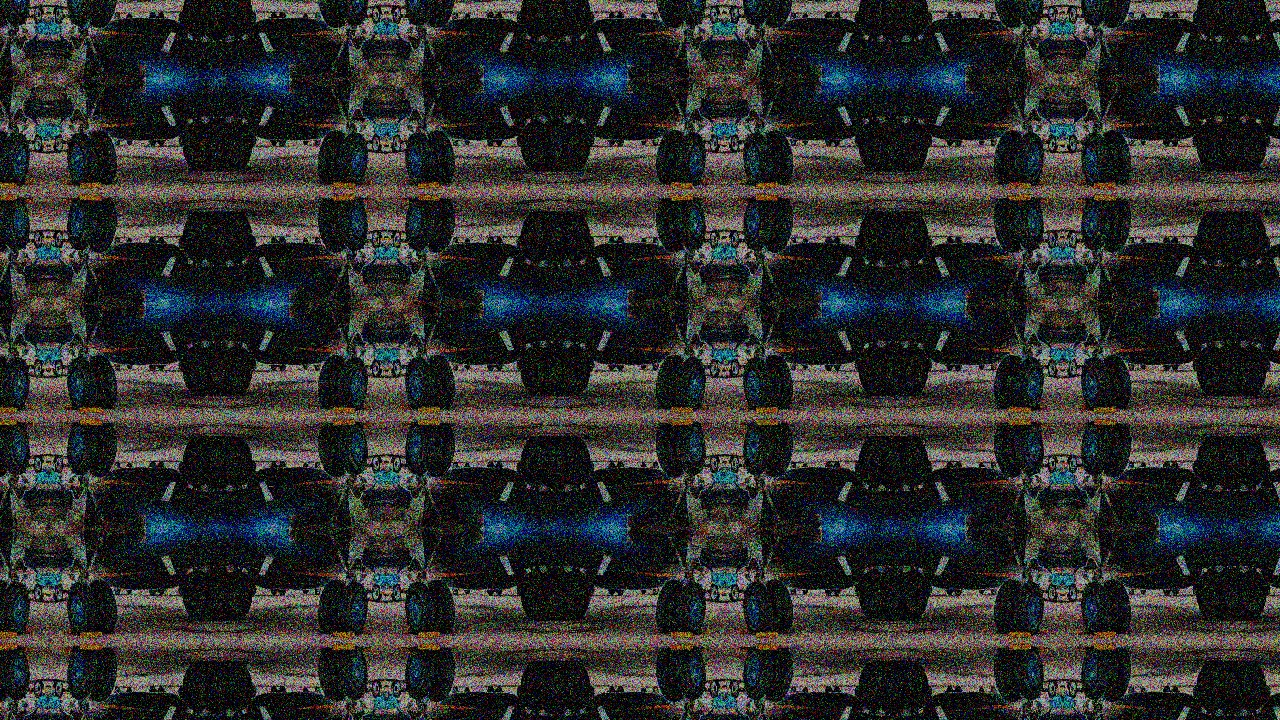chock: (78, 416, 103, 430), (669, 416, 694, 430), (1094, 416, 1119, 430), (78, 628, 103, 642), (669, 628, 694, 642), (1094, 628, 1119, 642), (331, 416, 355, 430), (417, 416, 441, 430), (756, 416, 780, 430), (1008, 416, 1032, 430), (331, 628, 355, 642), (417, 628, 441, 642), (756, 628, 780, 642), (1008, 628, 1032, 642), (78, 178, 103, 191), (669, 178, 694, 191), (1094, 178, 1119, 191), (78, 191, 103, 204), (669, 191, 694, 204), (1094, 191, 1119, 204), (78, 403, 103, 416), (669, 403, 694, 416), (1094, 403, 1119, 416), (78, 642, 103, 655), (669, 642, 694, 655), (1094, 642, 1119, 655), (331, 178, 355, 191), (417, 178, 441, 191), (756, 178, 780, 191), (1008, 178, 1032, 191), (331, 191, 355, 204), (417, 191, 441, 204), (756, 191, 780, 204), (1008, 191, 1032, 204), (331, 403, 355, 416), (417, 403, 441, 416), (756, 403, 780, 416), (1008, 403, 1032, 416), (331, 642, 355, 655), (417, 642, 441, 655), (756, 642, 780, 655), (1008, 642, 1032, 655), (352, 400, 373, 413), (399, 400, 420, 413), (352, 645, 373, 658), (399, 645, 420, 658), (14, 400, 34, 413), (61, 400, 81, 413), (691, 400, 711, 413), (738, 400, 758, 413), (1030, 400, 1050, 413), (1077, 400, 1097, 413), (14, 645, 34, 658), (61, 645, 81, 658), (691, 645, 711, 658), (738, 645, 758, 658), (1030, 645, 1050, 658), (1077, 645, 1097, 658), (352, 175, 373, 187), (399, 175, 420, 187), (352, 195, 373, 207), (399, 195, 420, 207), (352, 420, 373, 432), (399, 420, 420, 432), (352, 626, 373, 638), (399, 626, 420, 638), (14, 175, 34, 187), (61, 175, 81, 187), (691, 175, 711, 187), (738, 175, 758, 187), (1030, 175, 1050, 187), (1077, 175, 1097, 187), (14, 195, 34, 207), (61, 195, 81, 207), (691, 195, 711, 207), (738, 195, 758, 207), (1030, 195, 1050, 207), (1077, 195, 1097, 207), (14, 420, 34, 432), (61, 420, 81, 432), (691, 420, 711, 432), (738, 420, 758, 432), (1030, 420, 1050, 432), (1077, 420, 1097, 432), (14, 626, 34, 638), (61, 626, 81, 638), (691, 626, 711, 638), (738, 626, 758, 638), (1030, 626, 1050, 638), (1077, 626, 1097, 638), (0, 416, 16, 430), (0, 628, 16, 642), (0, 178, 16, 191), (0, 191, 16, 204), (0, 403, 16, 416), (0, 642, 16, 655)
wheel: (336, 353, 370, 414), (402, 353, 436, 414), (741, 353, 775, 414), (1013, 353, 1047, 414), (336, 644, 370, 705), (402, 644, 436, 705), (741, 644, 775, 705), (1013, 644, 1047, 705), (336, 128, 370, 188), (402, 128, 436, 188), (741, 128, 775, 188), (1013, 128, 1047, 188), (336, 194, 370, 254), (402, 194, 436, 254), (741, 194, 775, 254), (1013, 194, 1047, 254), (336, 419, 370, 479), (402, 419, 436, 479), (741, 419, 775, 479), (1013, 419, 1047, 479), (336, 579, 370, 639), (402, 579, 436, 639), (741, 579, 775, 639), (1013, 579, 1047, 639), (64, 353, 97, 414), (675, 353, 708, 414), (1080, 353, 1113, 414), (64, 644, 97, 705), (675, 644, 708, 705), (1080, 644, 1113, 705), (64, 128, 97, 188), (675, 128, 708, 188), (1080, 128, 1113, 188), (64, 194, 97, 254), (675, 194, 708, 254), (1080, 194, 1113, 254), (64, 419, 97, 479), (675, 419, 708, 479), (1080, 419, 1113, 479), (64, 579, 97, 639), (675, 579, 708, 639), (1080, 579, 1113, 639), (0, 353, 31, 414), (0, 644, 31, 705), (0, 128, 31, 188), (0, 194, 31, 254), (0, 419, 31, 479), (0, 579, 31, 639), (87, 127, 118, 186), (315, 127, 346, 186), (426, 127, 457, 186), (654, 127, 685, 186), (1103, 127, 1134, 186), (87, 196, 118, 255), (315, 196, 346, 255), (426, 196, 457, 255), (654, 196, 685, 255), (1103, 196, 1134, 255), (87, 352, 118, 411), (315, 352, 346, 411), (426, 352, 457, 411), (654, 352, 685, 411), (1103, 352, 1134, 411), (87, 421, 118, 480), (315, 421, 346, 480), (426, 421, 457, 480), (654, 421, 685, 480), (1103, 421, 1134, 480), (87, 578, 118, 637), (315, 578, 346, 637), (426, 578, 457, 637), (654, 578, 685, 637), (1103, 578, 1134, 637), (87, 647, 118, 706), (315, 647, 346, 706), (426, 647, 457, 706), (654, 647, 685, 706), (1103, 647, 1134, 706), (765, 127, 795, 186), (993, 127, 1023, 186), (765, 196, 795, 255), (993, 196, 1023, 255), (765, 352, 795, 411), (993, 352, 1023, 411), (765, 421, 795, 480), (993, 421, 1023, 480), (765, 578, 795, 637), (993, 578, 1023, 637), (765, 647, 795, 706), (993, 647, 1023, 706), (178, 120, 210, 173), (223, 120, 255, 173), (517, 120, 549, 173), (562, 120, 594, 173), (1194, 120, 1226, 173), (1239, 120, 1271, 173), (178, 209, 210, 262), (223, 209, 255, 262), (517, 209, 549, 262), (562, 209, 594, 262), (1194, 209, 1226, 262), (1239, 209, 1271, 262), (178, 345, 210, 398), (223, 345, 255, 398), (517, 345, 549, 398), (562, 345, 594, 398), (1194, 345, 1226, 398), (1239, 345, 1271, 398), (178, 435, 210, 488), (223, 435, 255, 488), (517, 435, 549, 488), (562, 435, 594, 488), (1194, 435, 1226, 488), (1239, 435, 1271, 488), (178, 570, 210, 623), (223, 570, 255, 623), (517, 570, 549, 623), (562, 570, 594, 623), (1194, 570, 1226, 623), (1239, 570, 1271, 623), (178, 660, 210, 713), (223, 660, 255, 713), (517, 660, 549, 713), (562, 660, 594, 713), (1194, 660, 1226, 713), (1239, 660, 1271, 713), (856, 120, 887, 173), (901, 120, 932, 173), (856, 209, 887, 262), (901, 209, 932, 262), (856, 345, 887, 398), (901, 345, 932, 398), (856, 435, 887, 488), (901, 435, 932, 488), (856, 570, 887, 623), (901, 570, 932, 623), (856, 660, 887, 713), (901, 660, 932, 713), (178, 0, 210, 37), (223, 0, 255, 37), (517, 0, 549, 37), (562, 0, 594, 37), (1194, 0, 1226, 37), (1239, 0, 1271, 37), (856, 0, 887, 37), (901, 0, 932, 37), (336, 0, 370, 29), (402, 0, 436, 29), (741, 0, 775, 29), (1013, 0, 1047, 29), (64, 0, 97, 29), (675, 0, 708, 29), (1080, 0, 1113, 29), (87, 0, 118, 30), (315, 0, 346, 30), (426, 0, 457, 30), (654, 0, 685, 30), (1103, 0, 1134, 30), (765, 0, 795, 30), (993, 0, 1023, 30), (0, 0, 31, 29), (204, 118, 217, 172), (555, 118, 568, 172), (1220, 118, 1233, 172), (204, 210, 217, 264), (555, 210, 568, 264), (1220, 210, 1233, 264), (204, 344, 217, 397), (555, 344, 568, 397), (1220, 344, 1233, 397), (204, 436, 217, 489), (555, 436, 568, 489), (1220, 436, 1233, 489), (204, 569, 217, 622), (555, 569, 568, 622), (1220, 569, 1233, 622), (204, 661, 217, 714), (555, 661, 568, 714), (1220, 661, 1233, 714), (217, 118, 229, 172), (543, 118, 555, 172), (882, 118, 894, 172), (894, 118, 906, 172), (1233, 118, 1245, 172), (217, 210, 229, 264), (543, 210, 555, 264), (882, 210, 894, 264), (894, 210, 906, 264), (1233, 210, 1245, 264), (217, 344, 229, 397), (543, 344, 555, 397), (882, 344, 894, 397), (894, 344, 906, 397), (1233, 344, 1245, 397), (217, 436, 229, 489), (543, 436, 555, 489), (882, 436, 894, 489), (894, 436, 906, 489), (1233, 436, 1245, 489), (217, 569, 229, 622), (543, 569, 555, 622), (882, 569, 894, 622), (894, 569, 906, 622), (1233, 569, 1245, 622), (217, 661, 229, 714), (543, 661, 555, 714), (882, 661, 894, 714), (894, 661, 906, 714), (1233, 661, 1245, 714), (204, 0, 217, 38), (555, 0, 568, 38), (1220, 0, 1233, 38), (217, 0, 229, 38), (543, 0, 555, 38), (882, 0, 894, 38), (894, 0, 906, 38), (1233, 0, 1245, 38), (0, 127, 7, 186), (0, 196, 7, 255), (0, 352, 7, 411), (0, 421, 7, 480), (0, 578, 7, 637), (0, 647, 7, 706), (51, 3, 63, 23), (709, 3, 721, 23), (1067, 3, 1079, 23), (51, 133, 63, 153), (709, 133, 721, 153), (1067, 133, 1079, 153), (51, 229, 63, 249), (709, 229, 721, 249), (1067, 229, 1079, 249), (51, 359, 63, 379), (709, 359, 721, 379), (1067, 359, 1079, 379), (51, 454, 63, 474), (709, 454, 721, 474), (1067, 454, 1079, 474), (51, 584, 63, 604), (709, 584, 721, 604), (1067, 584, 1079, 604), (51, 679, 63, 699), (709, 679, 721, 699), (1067, 679, 1079, 699), (32, 3, 43, 23), (371, 3, 382, 23), (390, 3, 401, 23), (729, 3, 740, 23), (1048, 3, 1059, 23), (32, 133, 43, 153), (371, 133, 382, 153), (390, 133, 401, 153), (729, 133, 740, 153), (1048, 133, 1059, 153), (32, 229, 43, 249), (371, 229, 382, 249), (390, 229, 401, 249), (729, 229, 740, 249), (1048, 229, 1059, 249), (32, 359, 43, 379), (371, 359, 382, 379), (390, 359, 401, 379), (729, 359, 740, 379), (1048, 359, 1059, 379), (32, 454, 43, 474), (371, 454, 382, 474), (390, 454, 401, 474), (729, 454, 740, 474), (1048, 454, 1059, 474), (32, 584, 43, 604), (371, 584, 382, 604), (390, 584, 401, 604), (729, 584, 740, 604), (1048, 584, 1059, 604), (32, 679, 43, 699), (371, 679, 382, 699), (390, 679, 401, 699), (729, 679, 740, 699), (1048, 679, 1059, 699), (0, 0, 7, 30), (250, 10, 257, 23), (515, 10, 522, 23), (854, 10, 861, 23), (927, 10, 934, 23), (1266, 10, 1273, 23), (250, 134, 257, 147), (515, 134, 522, 147), (854, 134, 861, 147), (927, 134, 934, 147), (1266, 134, 1273, 147), (250, 235, 257, 248), (515, 235, 522, 248), (854, 235, 861, 248), (927, 235, 934, 248), (1266, 235, 1273, 248), (250, 359, 257, 372), (515, 359, 522, 372), (854, 359, 861, 372), (927, 359, 934, 372), (1266, 359, 1273, 372), (250, 461, 257, 474), (515, 461, 522, 474), (854, 461, 861, 474), (927, 461, 934, 474), (1266, 461, 1273, 474), (250, 584, 257, 597), (515, 584, 522, 597), (854, 584, 861, 597), (927, 584, 934, 597), (1266, 584, 1273, 597), (250, 686, 257, 699), (515, 686, 522, 699), (854, 686, 861, 699), (927, 686, 934, 699), (1266, 686, 1273, 699), (177, 10, 183, 23), (589, 10, 595, 23), (1193, 10, 1199, 23), (177, 134, 183, 147), (589, 134, 595, 147), (1193, 134, 1199, 147), (177, 235, 183, 248), (589, 235, 595, 248), (1193, 235, 1199, 248), (177, 359, 183, 372), (589, 359, 595, 372), (1193, 359, 1199, 372), (177, 461, 183, 474), (589, 461, 595, 474), (1193, 461, 1199, 474), (177, 584, 183, 597), (589, 584, 595, 597), (1193, 584, 1199, 597), (177, 686, 183, 699), (589, 686, 595, 699), (1193, 686, 1199, 699), (156, 11, 164, 18), (608, 11, 616, 18), (1172, 11, 1180, 18), (156, 364, 164, 371), (608, 364, 616, 371), (1172, 364, 1180, 371), (156, 687, 164, 694), (608, 687, 616, 694), (1172, 687, 1180, 694), (148, 11, 155, 18), (278, 11, 285, 18), (270, 11, 277, 18), (487, 11, 494, 18), (495, 11, 502, 18), (617, 11, 624, 18), (825, 11, 832, 18), (834, 11, 841, 18), (790, 12, 797, 19), (956, 11, 963, 18), (947, 11, 954, 18), (991, 12, 998, 19), (1164, 11, 1171, 18), (148, 139, 155, 146), (278, 139, 285, 146), (487, 139, 494, 146), (617, 139, 624, 146), (825, 139, 832, 146), (790, 138, 797, 145), (956, 139, 963, 146), (991, 138, 998, 145), (1164, 139, 1171, 146), (148, 236, 155, 243), (278, 236, 285, 243), (487, 236, 494, 243), (617, 236, 624, 243), (825, 236, 832, 243), (790, 237, 797, 244), (956, 236, 963, 243), (991, 237, 998, 244), (1164, 236, 1171, 243), (148, 364, 155, 371), (278, 364, 285, 371), (270, 364, 277, 371), (487, 364, 494, 371), (495, 364, 502, 371), (617, 364, 624, 371), (825, 364, 832, 371), (834, 364, 841, 371), (790, 363, 797, 370), (956, 364, 963, 371), (947, 364, 954, 371), (991, 363, 998, 370), (1164, 364, 1171, 371), (148, 461, 155, 468), (278, 461, 285, 468), (487, 461, 494, 468), (617, 461, 624, 468), (825, 461, 832, 468), (790, 462, 797, 469), (956, 461, 963, 468), (991, 462, 998, 469), (1164, 461, 1171, 468), (148, 590, 155, 597), (278, 590, 285, 597), (487, 590, 494, 597), (617, 590, 624, 597), (825, 590, 832, 597), (790, 589, 797, 596), (956, 590, 963, 597), (991, 589, 998, 596), (1164, 590, 1171, 597), (148, 687, 155, 694), (278, 687, 285, 694), (270, 687, 277, 694), (487, 687, 494, 694), (495, 687, 502, 694), (617, 687, 624, 694), (825, 687, 832, 694), (834, 687, 841, 694), (790, 688, 797, 695), (956, 687, 963, 694), (947, 687, 954, 694), (991, 688, 998, 695), (1164, 687, 1171, 694), (156, 139, 164, 145), (608, 139, 616, 145), (1172, 139, 1180, 145), (156, 237, 164, 243), (608, 237, 616, 243), (1172, 237, 1180, 243), (156, 462, 164, 468), (608, 462, 616, 468), (1172, 462, 1180, 468), (156, 590, 164, 596), (608, 590, 616, 596), (1172, 590, 1180, 596), (38, 5, 43, 14), (377, 5, 382, 14), (390, 5, 395, 14), (729, 5, 734, 14), (1054, 5, 1059, 14), (38, 143, 43, 152), (377, 143, 382, 152), (390, 143, 395, 152), (729, 143, 734, 152), (1054, 143, 1059, 152), (38, 230, 43, 239), (377, 230, 382, 239), (390, 230, 395, 239), (729, 230, 734, 239), (1054, 230, 1059, 239), (38, 368, 43, 377), (377, 368, 382, 377), (390, 368, 395, 377), (729, 368, 734, 377), (1054, 368, 1059, 377), (38, 681, 43, 690), (377, 681, 382, 690), (390, 681, 395, 690), (729, 681, 734, 690), (1054, 681, 1059, 690), (113, 12, 119, 19), (314, 12, 320, 19), (452, 12, 458, 19), (653, 12, 659, 19), (1129, 12, 1135, 19), (113, 138, 119, 145), (270, 139, 277, 145), (314, 138, 320, 145), (495, 139, 502, 145), (452, 138, 458, 145), (653, 138, 659, 145), (834, 139, 841, 145), (947, 139, 954, 145), (1129, 138, 1135, 145), (113, 237, 119, 244), (270, 237, 277, 243), (314, 237, 320, 244), (495, 237, 502, 243), (452, 237, 458, 244), (653, 237, 659, 244), (834, 237, 841, 243), (947, 237, 954, 243), (1129, 237, 1135, 244), (113, 363, 119, 370), (314, 363, 320, 370), (452, 363, 458, 370), (653, 363, 659, 370), (1129, 363, 1135, 370), (113, 462, 119, 469), (270, 462, 277, 468), (314, 462, 320, 469), (495, 462, 502, 468), (452, 462, 458, 469), (653, 462, 659, 469), (834, 462, 841, 468), (947, 462, 954, 468), (1129, 462, 1135, 469), (113, 589, 119, 596), (270, 590, 277, 596), (314, 589, 320, 596), (495, 590, 502, 596), (452, 589, 458, 596), (653, 589, 659, 596), (834, 590, 841, 596), (947, 590, 954, 596), (1129, 589, 1135, 596), (113, 688, 119, 695), (314, 688, 320, 695), (452, 688, 458, 695), (653, 688, 659, 695), (1129, 688, 1135, 695), (38, 456, 43, 464), (377, 456, 382, 464), (390, 456, 395, 464), (729, 456, 734, 464), (1054, 456, 1059, 464), (38, 594, 43, 602), (377, 594, 382, 602), (390, 594, 395, 602), (729, 594, 734, 602), (1054, 594, 1059, 602), (125, 12, 131, 18), (52, 5, 56, 14), (302, 12, 308, 18), (464, 12, 470, 18), (641, 12, 647, 18), (716, 5, 720, 14), (1141, 12, 1147, 18), (1068, 5, 1072, 14), (52, 143, 56, 152), (716, 143, 720, 152), (1068, 143, 1072, 152), (52, 230, 56, 239), (716, 230, 720, 239), (1068, 230, 1072, 239), (125, 364, 131, 370), (52, 368, 56, 377), (302, 364, 308, 370), (464, 364, 470, 370), (641, 364, 647, 370), (716, 368, 720, 377), (1141, 364, 1147, 370), (1068, 368, 1072, 377), (125, 463, 131, 469), (302, 463, 308, 469), (464, 463, 470, 469), (641, 463, 647, 469), (1141, 463, 1147, 469), (125, 589, 131, 595), (302, 589, 308, 595), (464, 589, 470, 595), (641, 589, 647, 595), (1141, 589, 1147, 595), (125, 688, 131, 694), (52, 681, 56, 690), (302, 688, 308, 694), (464, 688, 470, 694), (641, 688, 647, 694), (716, 681, 720, 690), (1141, 688, 1147, 694), (1068, 681, 1072, 690), (52, 456, 56, 464), (716, 456, 720, 464), (1068, 456, 1072, 464), (52, 594, 56, 602), (716, 594, 720, 602), (1068, 594, 1072, 602), (803, 12, 808, 18), (980, 12, 985, 18), (125, 139, 131, 144), (302, 139, 308, 144), (464, 139, 470, 144), (641, 139, 647, 144), (1141, 139, 1147, 144), (125, 238, 131, 243), (302, 238, 308, 243), (464, 238, 470, 243), (641, 238, 647, 243), (1141, 238, 1147, 243), (803, 364, 808, 370), (980, 364, 985, 370), (803, 463, 808, 469), (980, 463, 985, 469), (803, 589, 808, 595), (980, 589, 985, 595), (803, 688, 808, 694), (980, 688, 985, 694), (803, 139, 808, 144), (980, 139, 985, 144), (803, 238, 808, 243), (980, 238, 985, 243), (61, 14, 65, 18), (368, 14, 372, 18), (400, 14, 404, 18), (707, 14, 711, 18), (1077, 14, 1081, 18), (61, 139, 65, 143), (368, 139, 372, 143), (400, 139, 404, 143), (707, 139, 711, 143), (1077, 139, 1081, 143), (61, 239, 65, 243), (368, 239, 372, 243), (400, 239, 404, 243), (707, 239, 711, 243), (1077, 239, 1081, 243), (61, 364, 65, 368), (368, 364, 372, 368), (400, 364, 404, 368), (707, 364, 711, 368), (1077, 364, 1081, 368), (61, 464, 65, 468), (368, 464, 372, 468), (400, 464, 404, 468), (707, 464, 711, 468), (1077, 464, 1081, 468), (61, 590, 65, 594), (368, 590, 372, 594), (400, 590, 404, 594), (707, 590, 711, 594), (1077, 590, 1081, 594), (61, 690, 65, 694), (368, 690, 372, 694), (400, 690, 404, 694), (707, 690, 711, 694), (1077, 690, 1081, 694), (30, 14, 33, 18), (47, 10, 50, 14), (383, 10, 386, 14), (386, 10, 389, 14), (722, 10, 725, 14), (739, 14, 742, 18), (1046, 14, 1049, 18), (1063, 10, 1066, 14), (30, 139, 33, 143), (47, 143, 50, 147), (383, 143, 386, 147), (386, 143, 389, 147), (722, 143, 725, 147), (739, 139, 742, 143), (1046, 139, 1049, 143), (1063, 143, 1066, 147), (30, 239, 33, 243), (47, 235, 50, 239), (383, 235, 386, 239), (386, 235, 389, 239), (722, 235, 725, 239), (739, 239, 742, 243), (1046, 239, 1049, 243), (1063, 235, 1066, 239), (30, 364, 33, 368), (47, 368, 50, 372), (383, 368, 386, 372), (386, 368, 389, 372), (722, 368, 725, 372), (739, 364, 742, 368), (1046, 364, 1049, 368), (1063, 368, 1066, 372), (30, 464, 33, 468), (47, 460, 50, 464), (383, 460, 386, 464), (386, 460, 389, 464), (722, 460, 725, 464), (739, 464, 742, 468), (1046, 464, 1049, 468), (1063, 460, 1066, 464), (30, 590, 33, 594), (47, 594, 50, 598), (383, 594, 386, 598), (386, 594, 389, 598), (722, 594, 725, 598), (739, 590, 742, 594), (1046, 590, 1049, 594), (1063, 594, 1066, 598), (30, 690, 33, 694), (47, 686, 50, 690), (383, 686, 386, 690), (386, 686, 389, 690), (722, 686, 725, 690), (739, 690, 742, 694), (1046, 690, 1049, 694), (1063, 686, 1066, 690), (45, 10, 47, 14), (725, 10, 727, 14), (1061, 10, 1063, 14), (45, 143, 47, 147), (725, 143, 727, 147), (1061, 143, 1063, 147), (45, 235, 47, 239), (725, 235, 727, 239), (1061, 235, 1063, 239), (45, 368, 47, 372), (725, 368, 727, 372), (1061, 368, 1063, 372), (45, 460, 47, 464), (725, 460, 727, 464), (1061, 460, 1063, 464), (45, 594, 47, 598), (725, 594, 727, 598), (1061, 594, 1063, 598), (45, 686, 47, 690), (725, 686, 727, 690), (1061, 686, 1063, 690)
